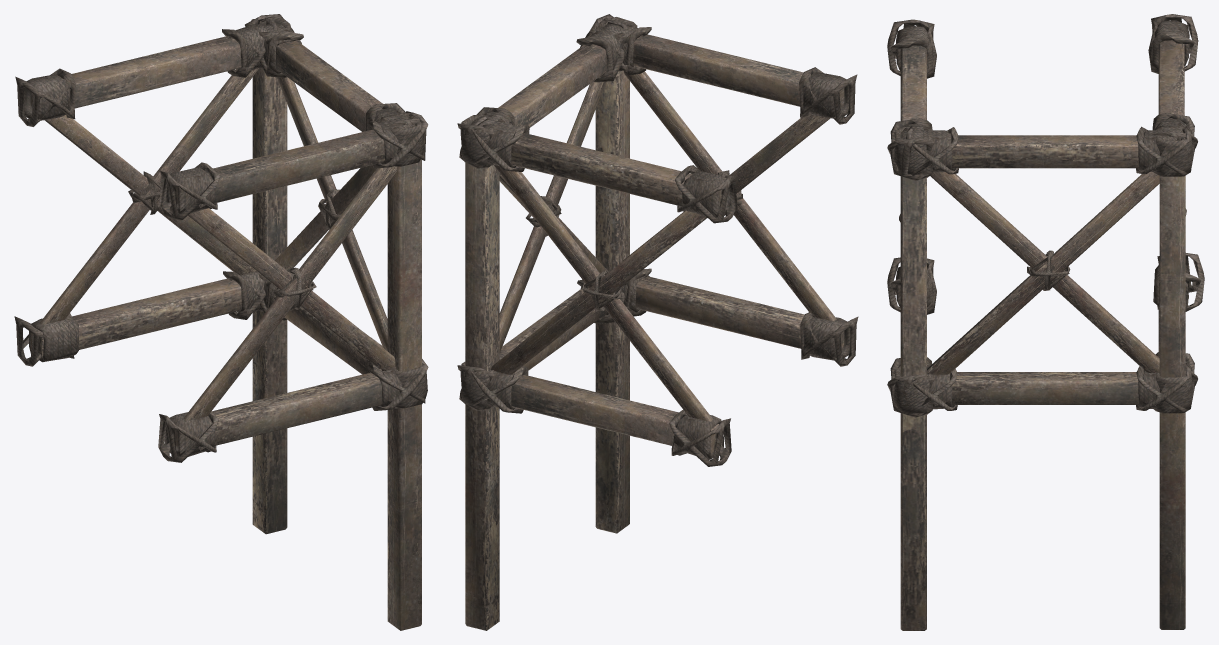
File: SM_Scafold_01b.fbx
The picture shows the model from 3 angles, left to right: view 1: azimuth 30°, elevation 25°; view 2: azimuth 150°, elevation 25°; view 3: azimuth 270°, elevation 25°; orthographic projection. The views are drawn at different scales.
Visible parts, largest first — view 1: SM_Scafold_01b; view 2: SM_Scafold_01b; view 3: SM_Scafold_01b.
Boxes of the visible parts, box(x1,y1,x2,y2) form: SM_Scafold_01b: box(14, 14, 428, 630); SM_Scafold_01b: box(457, 14, 858, 630); SM_Scafold_01b: box(887, 14, 1204, 630).
Size of the model in its own units: 597 by 1062 by 617.
